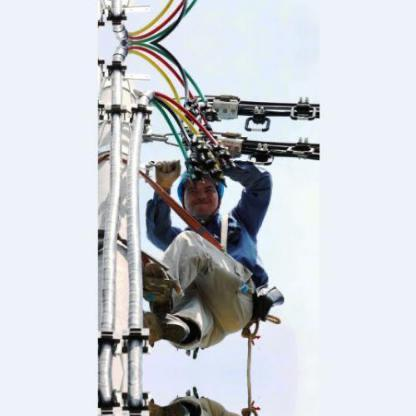helmet: (177, 168, 226, 209)
